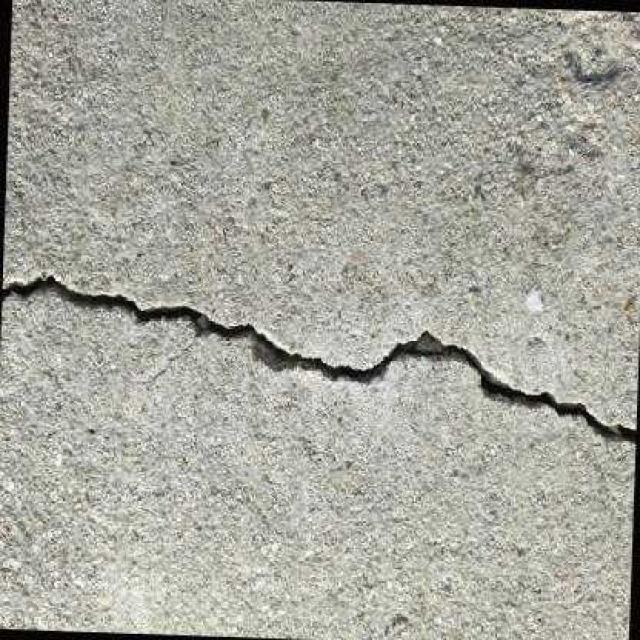D00: (0, 267, 637, 455)
